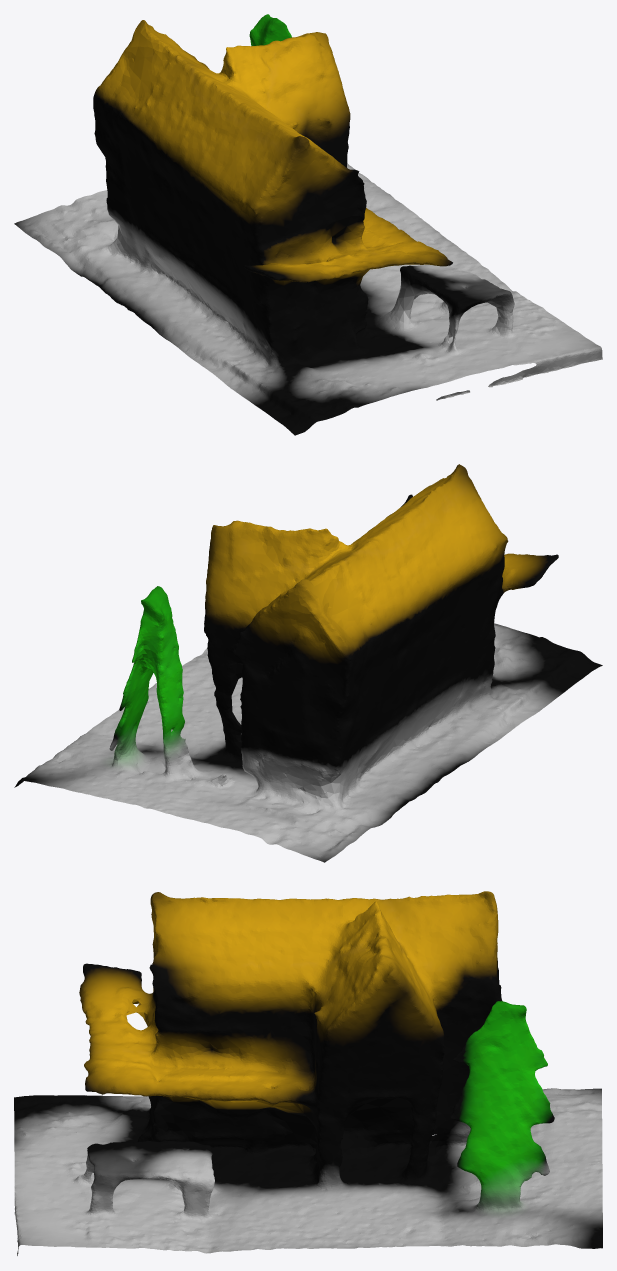
File: color_190918_fmt1_4.glb
3 renders of one model, top to bottom at view 1: azimuth 30°, elevation 25°; view 2: azimuth 150°, elevation 25°; view 3: azimuth 270°, elevation 25°, orthographic. The views are drawn at different scales.
Visible parts, largest first — view 1: base_190918_fmt1; view 2: base_190918_fmt1; view 3: base_190918_fmt1.
Boxes of the visible parts, left/top/right/bottom form: base_190918_fmt1: left=14, top=14, right=602, bottom=435; base_190918_fmt1: left=14, top=464, right=602, bottom=862; base_190918_fmt1: left=14, top=891, right=602, bottom=1255.
Size of the model in its own units: 5.85 by 4.27 by 9.13.
